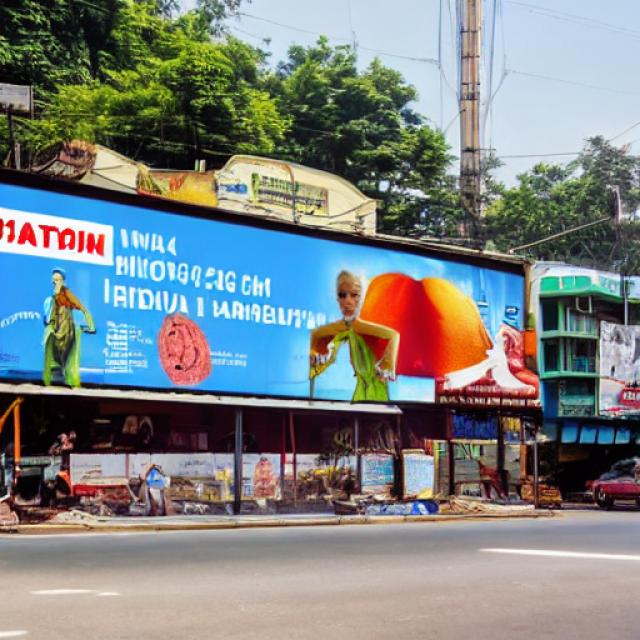Billboard: (0, 172, 544, 418)
